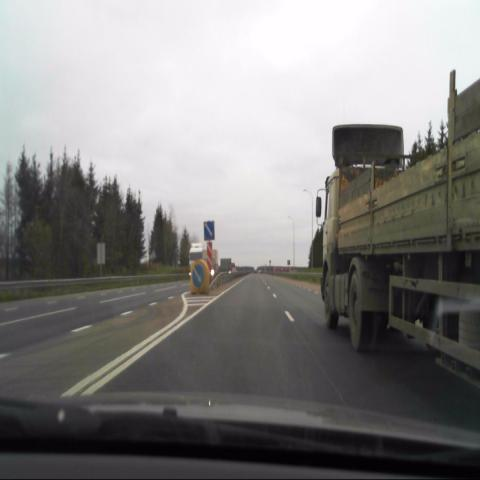4_2_1: (192, 263, 204, 287), (203, 219, 215, 241)
